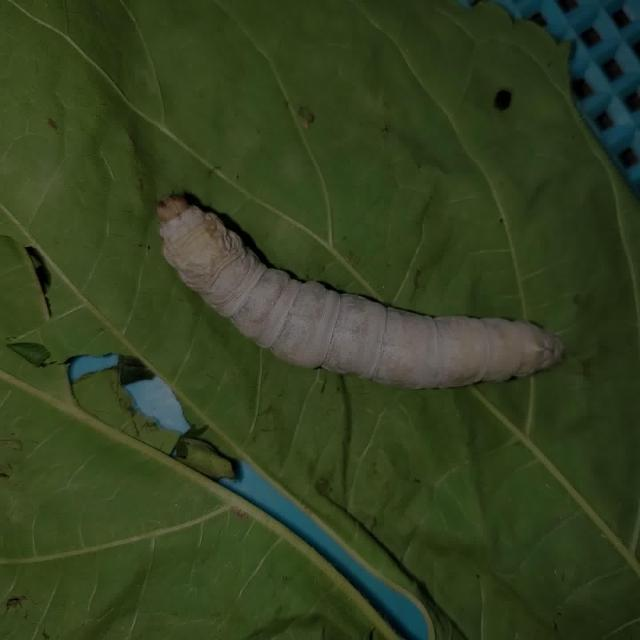Grasserie: (135, 173, 569, 414)
